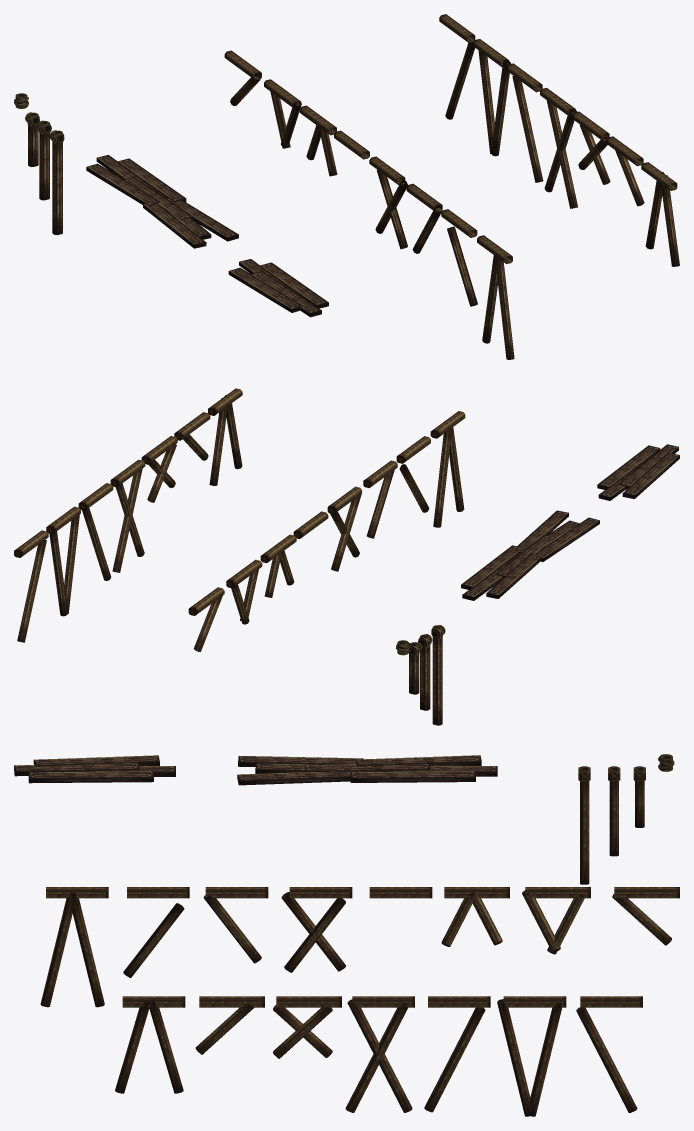
Rendered from EnvMdrMD_Wilderness_B_Pole_H2.FBX.
3 views of the same model, one above another, from view 1: azimuth 30°, elevation 25°; view 2: azimuth 150°, elevation 25°; view 3: azimuth 270°, elevation 25° (orthographic). The views are drawn at different scales.
Visible parts, largest first — view 1: EnvMdrMD_Wilderness_B_Timber_A, EnvMdrMD_Wilderness_B_Timber_B, EnvMdrMD_Wilderness_B_Start_H4_D, EnvMdrMD_Wilderness_B_Start_H4_E, EnvMdrMD_Wilderness_B_Start_H4_A, EnvMdrMD_Wilderness_B_Start_H3_D, EnvMdrMD_Wilderness_B_Start_H3_A, EnvMdrMD_Wilderness_B_Start_H4_B, EnvMdrMD_Wilderness_B_Start_H2_A, EnvMdrMD_Wilderness_B_Pole_H4, EnvMdrMD_Wilderness_B_Start_H2_E, EnvMdrMD_Wilderness_B_Start_H3_C (+7 smaller); view 2: EnvMdrMD_Wilderness_B_Timber_A, EnvMdrMD_Wilderness_B_Timber_B, EnvMdrMD_Wilderness_B_Start_H4_D, EnvMdrMD_Wilderness_B_Start_H4_E, EnvMdrMD_Wilderness_B_Start_H4_A, EnvMdrMD_Wilderness_B_Start_H3_D, EnvMdrMD_Wilderness_B_Start_H3_A, EnvMdrMD_Wilderness_B_Start_H4_C, EnvMdrMD_Wilderness_B_Pole_H4, EnvMdrMD_Wilderness_B_Start_H2_A, EnvMdrMD_Wilderness_B_Start_H2_E, EnvMdrMD_Wilderness_B_Start_H2_D (+7 smaller); view 3: EnvMdrMD_Wilderness_B_Timber_A, EnvMdrMD_Wilderness_B_Timber_B, EnvMdrMD_Wilderness_B_Start_H4_A, EnvMdrMD_Wilderness_B_Start_H4_E, EnvMdrMD_Wilderness_B_Start_H4_D, EnvMdrMD_Wilderness_B_Start_H3_D, EnvMdrMD_Wilderness_B_Start_H3_A, EnvMdrMD_Wilderness_B_Start_H2_A, EnvMdrMD_Wilderness_B_Start_H4_C, EnvMdrMD_Wilderness_B_Start_H4_B, EnvMdrMD_Wilderness_B_Start_H2_E, EnvMdrMD_Wilderness_B_Start_H2_D (+8 smaller).
Part boxes in pixels (x1=…): EnvMdrMD_Wilderness_B_Timber_A: x1=86, y1=155, x2=238, y2=248; EnvMdrMD_Wilderness_B_Timber_B: x1=228, y1=259, x2=328, y2=317; EnvMdrMD_Wilderness_B_Start_H4_D: x1=477, y1=235, x2=514, y2=359; EnvMdrMD_Wilderness_B_Start_H4_E: x1=473, y1=39, x2=510, y2=156; EnvMdrMD_Wilderness_B_Start_H4_A: x1=540, y1=88, x2=577, y2=208; EnvMdrMD_Wilderness_B_Start_H3_D: x1=641, y1=162, x2=679, y2=266; EnvMdrMD_Wilderness_B_Start_H3_A: x1=369, y1=156, x2=407, y2=249; EnvMdrMD_Wilderness_B_Start_H4_B: x1=506, y1=63, x2=543, y2=182; EnvMdrMD_Wilderness_B_Start_H2_A: x1=572, y1=111, x2=610, y2=184; EnvMdrMD_Wilderness_B_Pole_H4: x1=49, y1=130, x2=64, y2=235; EnvMdrMD_Wilderness_B_Start_H2_E: x1=264, y1=79, x2=301, y2=148; EnvMdrMD_Wilderness_B_Start_H3_C: x1=441, y1=209, x2=477, y2=306; EnvMdrMD_Wilderness_B_Timber_A: x1=461, y1=510, x2=599, y2=600; EnvMdrMD_Wilderness_B_Timber_B: x1=597, y1=444, x2=679, y2=500; EnvMdrMD_Wilderness_B_Start_H4_D: x1=430, y1=411, x2=465, y2=527; EnvMdrMD_Wilderness_B_Start_H4_E: x1=46, y1=506, x2=80, y2=616; EnvMdrMD_Wilderness_B_Start_H4_A: x1=110, y1=459, x2=145, y2=572; EnvMdrMD_Wilderness_B_Start_H3_D: x1=208, y1=388, x2=242, y2=485; EnvMdrMD_Wilderness_B_Start_H3_A: x1=327, y1=486, x2=362, y2=571; EnvMdrMD_Wilderness_B_Start_H4_C: x1=14, y1=530, x2=48, y2=642; EnvMdrMD_Wilderness_B_Pole_H4: x1=431, y1=625, x2=445, y2=725; EnvMdrMD_Wilderness_B_Start_H2_A: x1=141, y1=436, x2=177, y2=502; EnvMdrMD_Wilderness_B_Start_H2_E: x1=226, y1=559, x2=262, y2=624; EnvMdrMD_Wilderness_B_Start_H2_D: x1=260, y1=534, x2=296, y2=597; EnvMdrMD_Wilderness_B_Timber_A: x1=237, y1=755, x2=497, y2=785; EnvMdrMD_Wilderness_B_Timber_B: x1=14, y1=755, x2=175, y2=783; EnvMdrMD_Wilderness_B_Start_H4_A: x1=345, y1=996, x2=414, y2=1112; EnvMdrMD_Wilderness_B_Start_H4_E: x1=497, y1=996, x2=566, y2=1116; EnvMdrMD_Wilderness_B_Start_H4_D: x1=40, y1=887, x2=108, y2=1007; EnvMdrMD_Wilderness_B_Start_H3_D: x1=115, y1=996, x2=185, y2=1093; EnvMdrMD_Wilderness_B_Start_H3_A: x1=281, y1=887, x2=352, y2=972; EnvMdrMD_Wilderness_B_Start_H2_A: x1=273, y1=996, x2=341, y2=1058; EnvMdrMD_Wilderness_B_Start_H4_C: x1=576, y1=996, x2=642, y2=1112; EnvMdrMD_Wilderness_B_Start_H4_B: x1=424, y1=996, x2=490, y2=1112; EnvMdrMD_Wilderness_B_Start_H2_E: x1=522, y1=887, x2=590, y2=954; EnvMdrMD_Wilderness_B_Start_H2_D: x1=441, y1=887, x2=509, y2=946.
Size of the model in its own units: 1807 by 460 by 2127.
2 materials, 2 textured.
